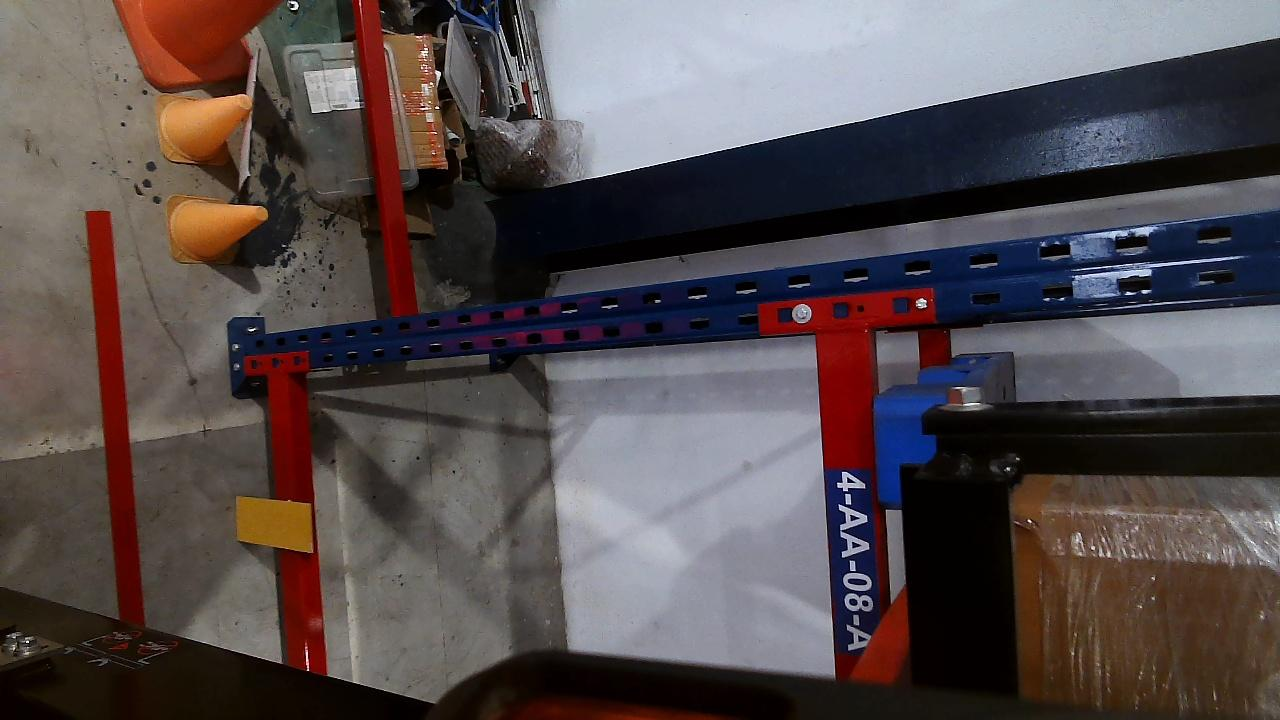h_rack: (814, 327, 895, 682), (264, 372, 325, 674)
orange_strip: (234, 496, 313, 552)
red_line: (84, 210, 143, 622)
